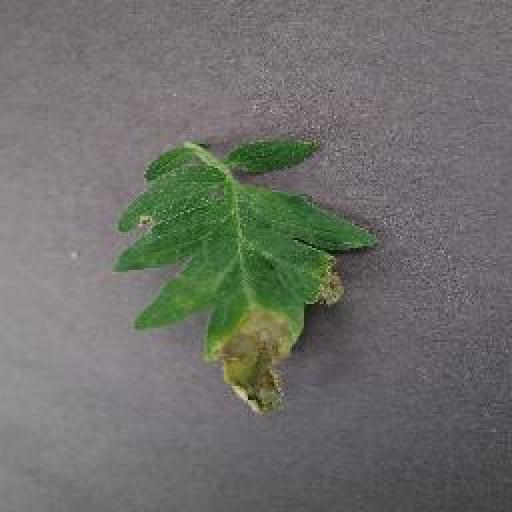Late Blight: (115, 136, 380, 419)
